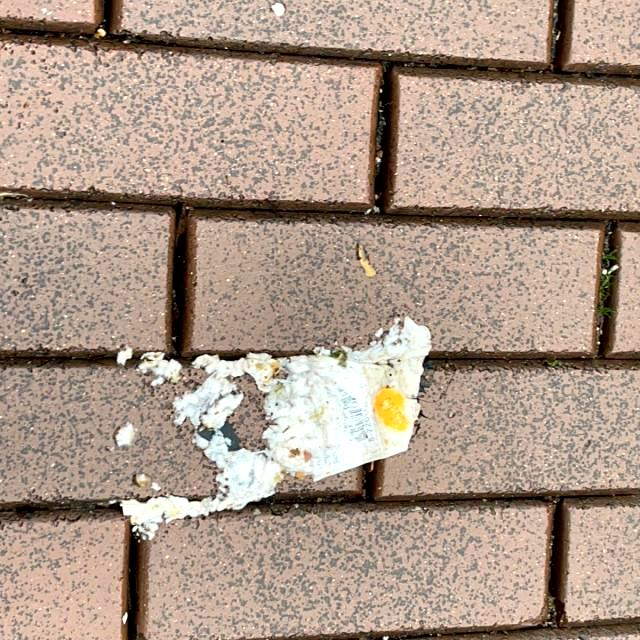Paper: (124, 323, 454, 512)
